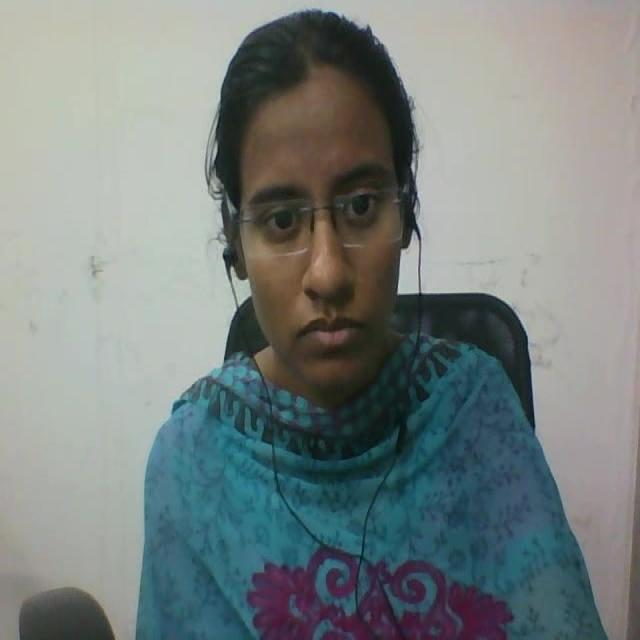Engaged: (192, 0, 454, 427)
